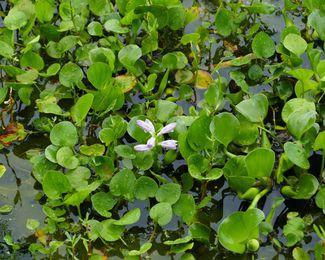water_hyacinth: (0, 0, 325, 260)
